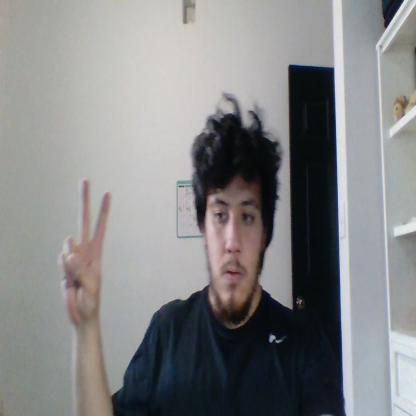V: (59, 176, 112, 322)
